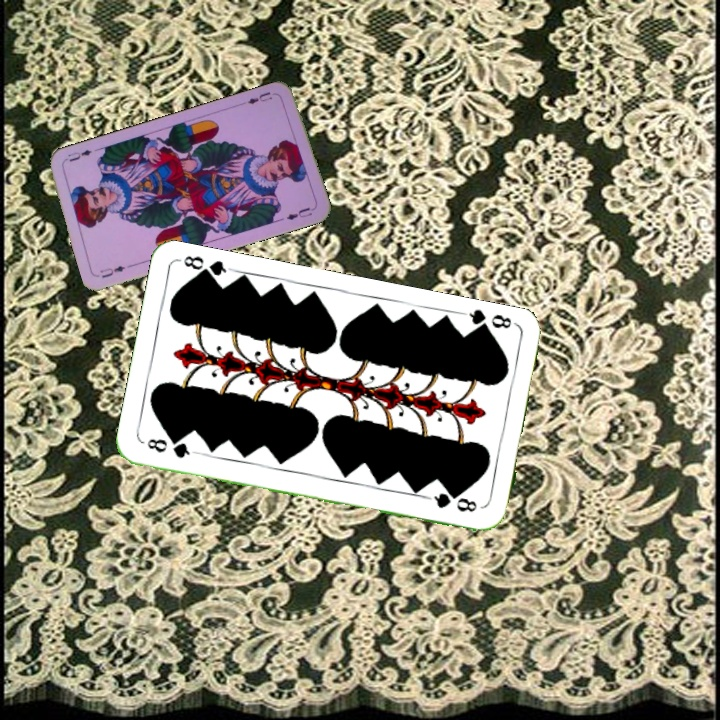EU: (96, 262, 128, 281), (244, 88, 275, 107)
G8: (461, 306, 519, 337), (143, 434, 199, 461)
